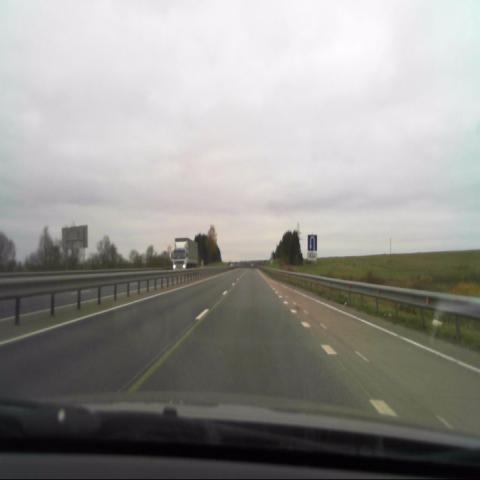6_3_1: (306, 234, 317, 252)
